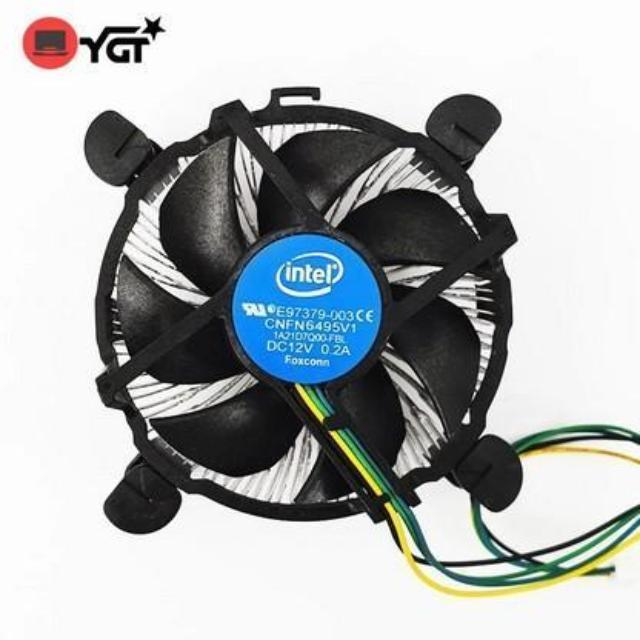CPU_Fan: (80, 89, 526, 537)
